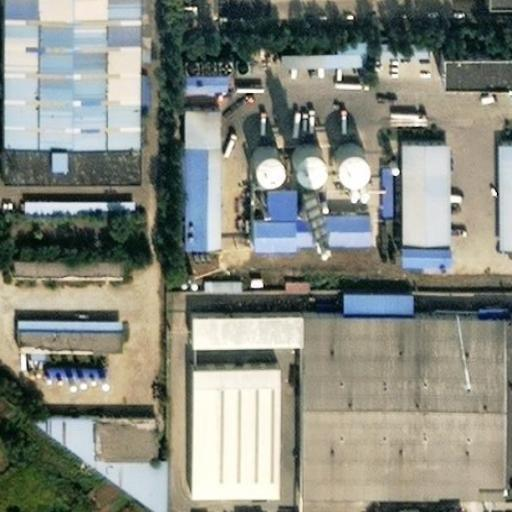building: (176, 303, 512, 487), (0, 0, 137, 157), (21, 403, 153, 506), (174, 354, 261, 484), (236, 174, 355, 233), (161, 94, 207, 234), (389, 131, 439, 253), (266, 27, 420, 54), (486, 132, 512, 235), (430, 37, 512, 66), (5, 315, 108, 336), (0, 245, 107, 262), (12, 187, 120, 201), (330, 282, 398, 303), (46, 361, 105, 382), (278, 128, 311, 161), (320, 128, 353, 161), (235, 128, 268, 161), (373, 499, 452, 512), (184, 247, 219, 275), (201, 276, 243, 295), (388, 105, 430, 124), (172, 61, 213, 79), (282, 276, 310, 294), (225, 504, 254, 512), (268, 504, 292, 512)
